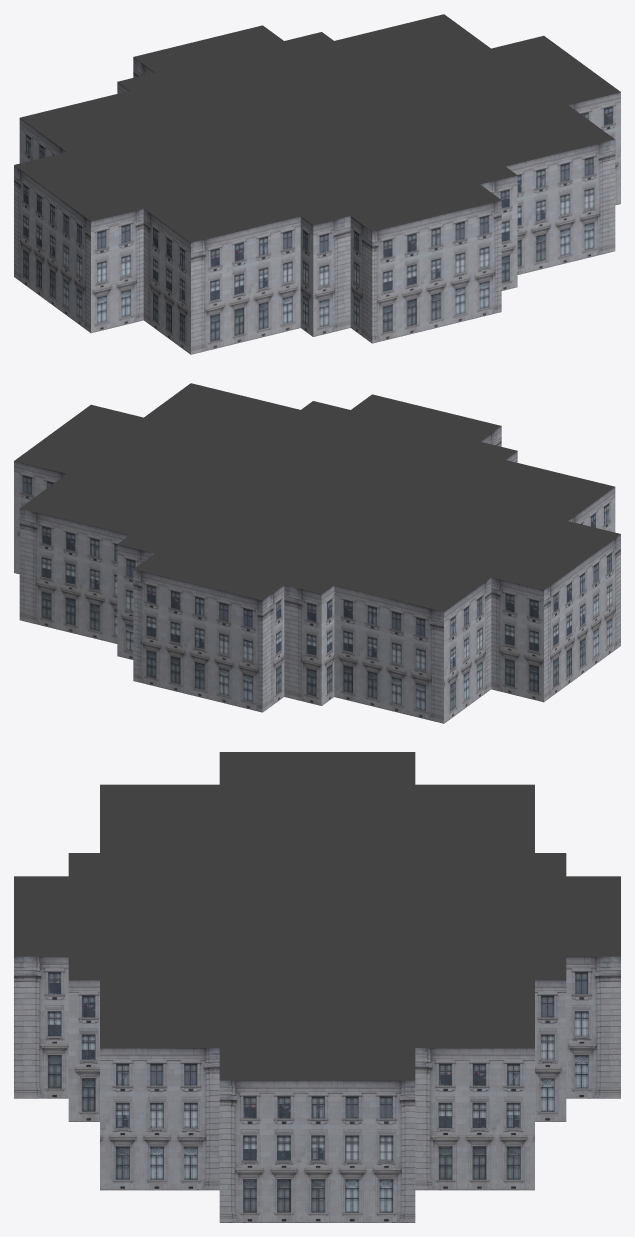
Rendered from BLD-17-TX.FBX.
3 views of the same model, one above another, from view 1: azimuth 30°, elevation 25°; view 2: azimuth 150°, elevation 25°; view 3: azimuth 270°, elevation 25° (orthographic). The views are drawn at different scales.
Parts seen in each view (by area): view 1: BLD-Type-17-001; view 2: BLD-Type-17-001; view 3: BLD-Type-17-001.
Boxes of the visible parts, x1=… form: BLD-Type-17-001: x1=14, y1=14, x2=620, y2=354; BLD-Type-17-001: x1=14, y1=383, x2=620, y2=723; BLD-Type-17-001: x1=14, y1=752, x2=620, y2=1222.
Size of the model in its own units: 40.43 by 8.16 by 31.55.
